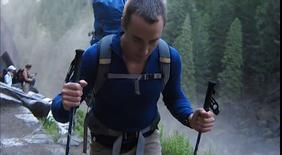down: (200, 81, 220, 117), (21, 63, 39, 93)
sit: (21, 63, 39, 93)
